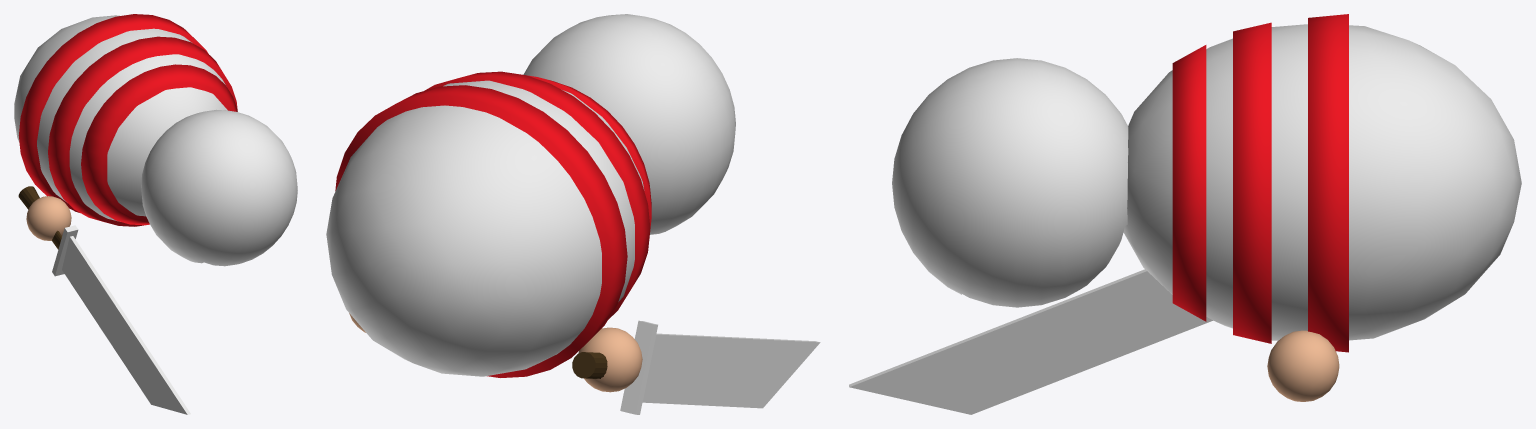
The model's file is knight_red_idle.glb.
3 views of the same model, side by side, from view 1: azimuth 30°, elevation 25°; view 2: azimuth 150°, elevation 25°; view 3: azimuth 270°, elevation 25° (orthographic). The views are drawn at different scales.
Visible parts, largest first — view 1: Sphere, Icosphere, Cylinder.015, Cylinder.002, Cylinder.001, Cylinder, Icosphere.003; view 2: Icosphere, Sphere, Cylinder.015, Cylinder, Cylinder.001, Icosphere.003, Cylinder.002; view 3: Icosphere, Sphere, Cylinder.015, Cylinder, Cylinder.001, Cylinder.002, Icosphere.004.
Part boxes in pixels (box(x1,y1,x2,y2)): Sphere: box(141, 109, 297, 266); Icosphere: box(14, 15, 227, 221); Cylinder.015: box(18, 186, 190, 414); Cylinder.002: box(81, 64, 237, 225); Cylinder.001: box(48, 36, 237, 226); Cylinder: box(18, 14, 208, 212); Icosphere.003: box(26, 196, 71, 240); Icosphere: box(326, 80, 644, 376); Sphere: box(523, 14, 735, 234); Cylinder.015: box(572, 320, 820, 414); Cylinder: box(335, 85, 627, 377); Cylinder.001: box(424, 71, 650, 319); Icosphere.003: box(578, 327, 642, 392); Cylinder.002: box(527, 75, 651, 238); Icosphere: box(1123, 24, 1521, 340); Sphere: box(892, 58, 1128, 307); Cylinder.015: box(849, 269, 1212, 414); Cylinder: box(1308, 14, 1348, 352); Cylinder.001: box(1233, 22, 1271, 343); Cylinder.002: box(1172, 45, 1206, 321); Icosphere.004: box(1267, 330, 1339, 401).
Size of the model in its own units: 0.3579 by 0.4834 by 0.6576.
